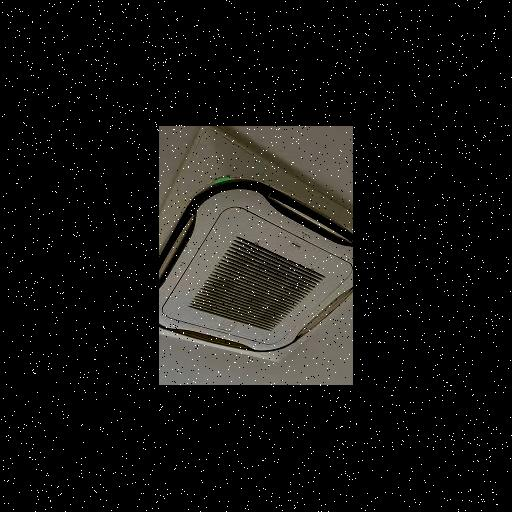4-way-ac: (159, 130, 350, 360)
